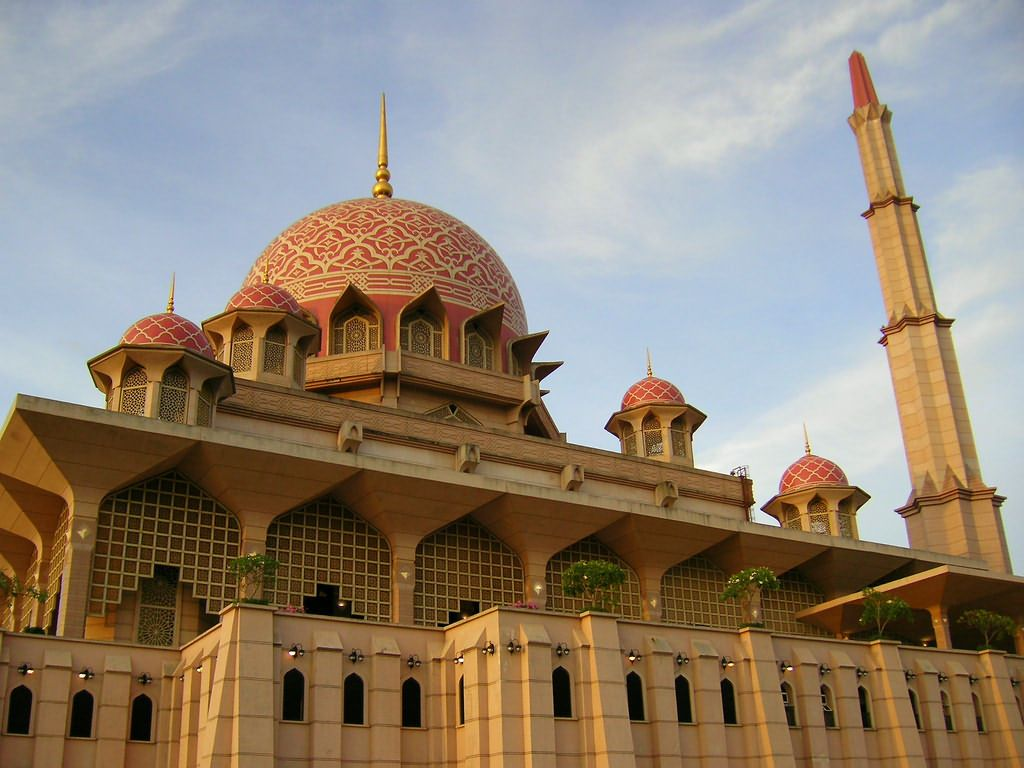Mosque: (17, 55, 996, 654)
